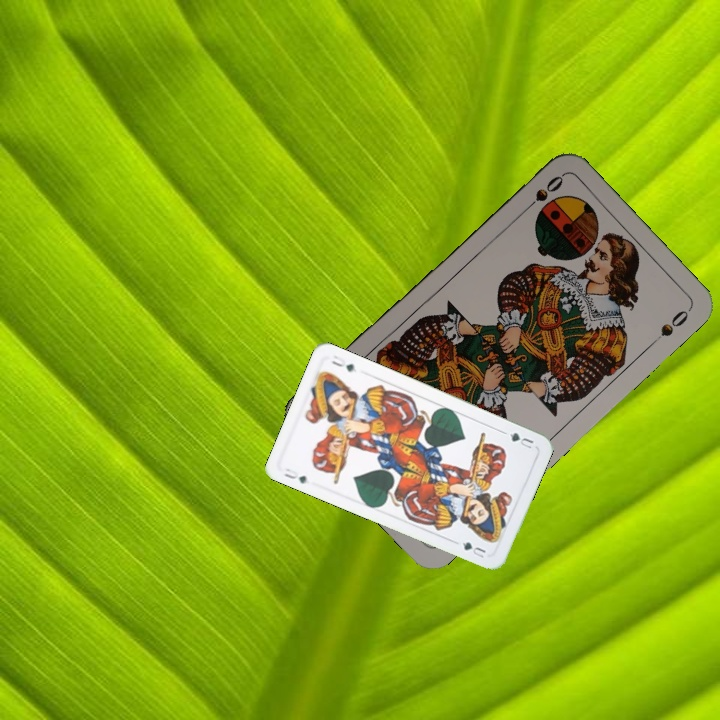GU: (506, 428, 536, 451), (280, 464, 309, 486)
SO: (518, 171, 566, 216)
